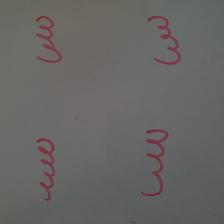location-protein-no-top: (139, 128, 169, 196), (147, 14, 181, 66), (34, 16, 62, 64), (35, 138, 55, 203)
